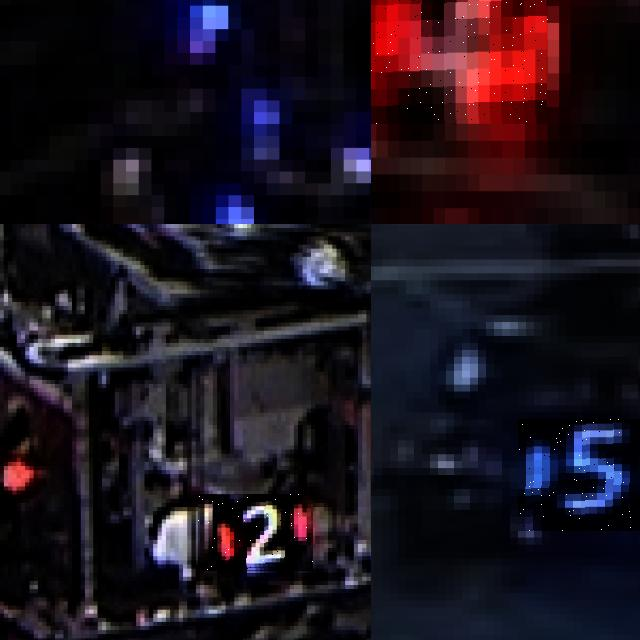B5: (518, 419, 640, 530)
R2: (198, 494, 313, 572)
R4: (371, 0, 547, 124)
